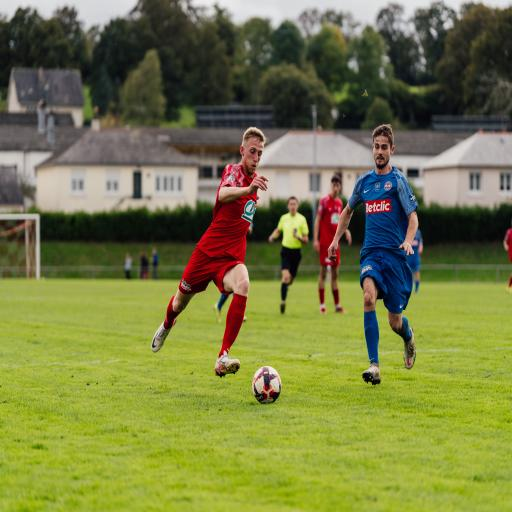shoe: (151, 319, 176, 352), (215, 351, 240, 377), (404, 326, 415, 369), (363, 363, 381, 385), (214, 303, 222, 322), (214, 303, 221, 322), (280, 301, 286, 314)
